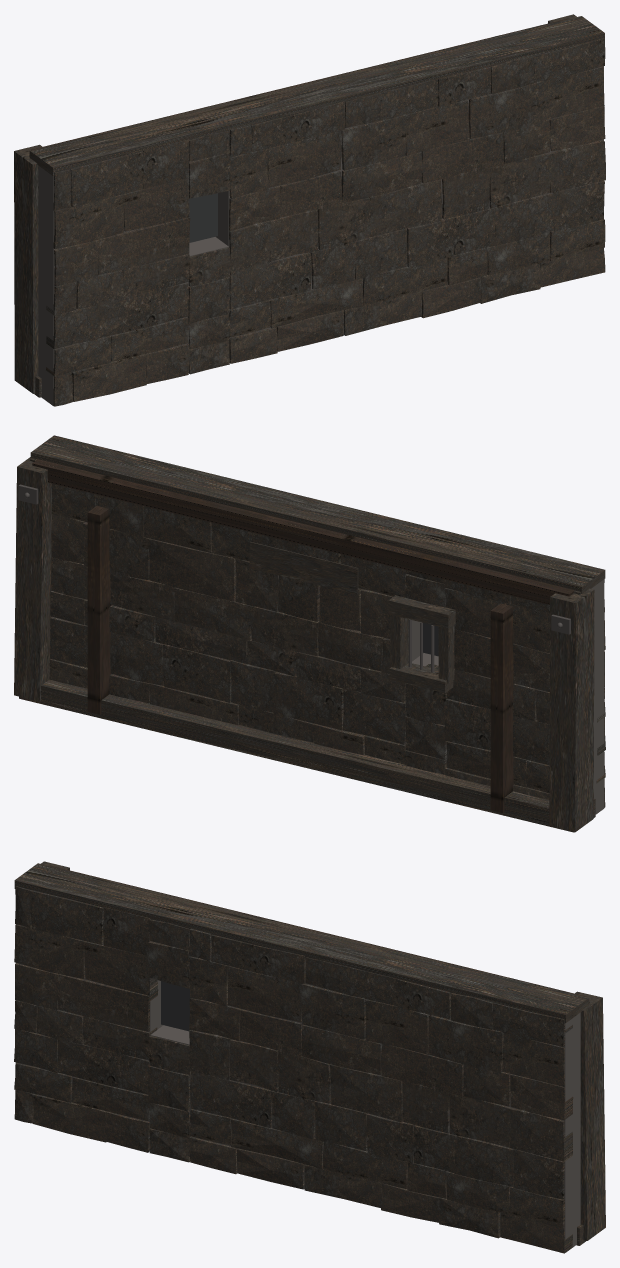
File: wall_rear_preview.glb
The picture shows the model from 3 angles, top to bottom: view 1: azimuth 30°, elevation 25°; view 2: azimuth 150°, elevation 25°; view 3: azimuth 330°, elevation 25°; orthographic projection.
Parts seen in each view (by area): view 1: ASSET_REAR_REAR_roof_bedding_stone, ASSET_REAR_REAR_load_corner_1, ASSET_REAR_REAR_solid_2_structural, ASSET_REAR_REAR_solid_2_InteriorPBR_4_0, ASSET_REAR_REAR_solid_2_InteriorPBR_2_0, ASSET_REAR_REAR_solid_0_InteriorPBR_5_1, ASSET_REAR_REAR_solid_0_InteriorPBR_2_6, ASSET_REAR_REAR_solid_0_InteriorPBR_5_4, ASSET_REAR_REAR_solid_0_InteriorPBR_3_3, ASSET_REAR_REAR_solid_2_InteriorPBR_6_1, ASSET_REAR_REAR_solid_2_InteriorPBR_5_1, ASSET_REAR_REAR_solid_0_InteriorPBR_4_2 (+61 smaller); view 2: ASSET_REAR_REAR_roof_bedding_stone, ASSET_REAR_REAR_continuous_plinth, ASSET_REAR_REAR_wall_plate, ASSET_REAR_REAR_load_corner_1, ASSET_REAR_REAR_load_corner_-1, ASSET_REAR_REAR_oak_utility_pier_1, ASSET_REAR_REAR_oak_utility_pier_-1, ASSET_REAR_REAR_solid_0_stone_4_2, ASSET_REAR_REAR_dark_smoke_stone, ASSET_REAR_REAR_solid_0_stone_1_4, ASSET_REAR_REAR_solid_0_stone_1_2, ASSET_REAR_REAR_solid_0_stone_3_2 (+51 smaller); view 3: ASSET_REAR_REAR_roof_bedding_stone, ASSET_REAR_REAR_load_corner_-1, ASSET_REAR_REAR_solid_0_structural, ASSET_REAR_REAR_solid_2_InteriorPBR_4_0, ASSET_REAR_REAR_solid_2_InteriorPBR_2_0, ASSET_REAR_REAR_solid_0_InteriorPBR_2_6, ASSET_REAR_REAR_solid_0_InteriorPBR_5_1, ASSET_REAR_REAR_solid_0_InteriorPBR_5_4, ASSET_REAR_REAR_solid_0_InteriorPBR_3_3, ASSET_REAR_REAR_solid_2_InteriorPBR_6_1, ASSET_REAR_REAR_solid_2_InteriorPBR_5_1, ASSET_REAR_REAR_solid_0_InteriorPBR_4_2 (+61 smaller).
Part boxes in pixels (<box>): ASSET_REAR_REAR_roof_bedding_stone: <box>29,16,604,175</box>; ASSET_REAR_REAR_load_corner_1: <box>14,144,42,393</box>; ASSET_REAR_REAR_solid_2_structural: <box>38,165,188,406</box>; ASSET_REAR_REAR_solid_2_InteriorPBR_4_0: <box>98,217,190,274</box>; ASSET_REAR_REAR_solid_2_InteriorPBR_2_0: <box>97,283,188,338</box>; ASSET_REAR_REAR_solid_0_InteriorPBR_5_1: <box>468,80,544,138</box>; ASSET_REAR_REAR_solid_0_InteriorPBR_2_6: <box>229,252,311,309</box>; ASSET_REAR_REAR_solid_0_InteriorPBR_5_4: <box>267,130,342,187</box>; ASSET_REAR_REAR_solid_0_InteriorPBR_3_3: <box>369,179,441,236</box>; ASSET_REAR_REAR_solid_2_InteriorPBR_6_1: <box>70,151,143,207</box>; ASSET_REAR_REAR_solid_2_InteriorPBR_5_1: <box>53,194,125,249</box>; ASSET_REAR_REAR_solid_0_InteriorPBR_4_2: <box>421,132,504,183</box>; ASSET_REAR_REAR_roof_bedding_stone: <box>30,435,605,593</box>; ASSET_REAR_REAR_continuous_plinth: <box>19,679,595,832</box>; ASSET_REAR_REAR_wall_plate: <box>32,459,574,604</box>; ASSET_REAR_REAR_load_corner_1: <box>549,588,594,832</box>; ASSET_REAR_REAR_load_corner_-1: <box>14,457,52,701</box>; ASSET_REAR_REAR_oak_utility_pier_1: <box>490,603,514,812</box>; ASSET_REAR_REAR_oak_utility_pier_-1: <box>87,505,111,714</box>; ASSET_REAR_REAR_solid_0_stone_4_2: <box>148,538,236,601</box>; ASSET_REAR_REAR_dark_smoke_stone: <box>249,541,358,594</box>; ASSET_REAR_REAR_solid_0_stone_1_4: <box>273,671,343,730</box>; ASSET_REAR_REAR_solid_0_stone_1_2: <box>162,644,231,702</box>; ASSET_REAR_REAR_solid_0_stone_3_2: <box>174,587,251,640</box>; ASSET_REAR_REAR_roof_bedding_stone: <box>14,863,589,1023</box>; ASSET_REAR_REAR_load_corner_-1: <box>575,991,605,1240</box>; ASSET_REAR_REAR_solid_0_structural: <box>190,960,580,1252</box>; ASSET_REAR_REAR_solid_2_InteriorPBR_4_0: <box>57,974,158,1031</box>; ASSET_REAR_REAR_solid_2_InteriorPBR_2_0: <box>57,1040,149,1094</box>; ASSET_REAR_REAR_solid_0_InteriorPBR_2_6: <box>190,1071,272,1128</box>; ASSET_REAR_REAR_solid_0_InteriorPBR_5_1: <box>428,1015,503,1072</box>; ASSET_REAR_REAR_solid_0_InteriorPBR_5_4: <box>227,966,302,1022</box>; ASSET_REAR_REAR_solid_0_InteriorPBR_3_3: <box>330,1064,402,1122</box>; ASSET_REAR_REAR_solid_2_InteriorPBR_6_1: <box>30,890,103,944</box>; ASSET_REAR_REAR_solid_2_InteriorPBR_5_1: <box>14,924,84,979</box>; ASSET_REAR_REAR_solid_0_InteriorPBR_4_2: <box>381,1044,463,1095</box>.
Bounding box in the file's own units: 8.05 × 3.28 × 0.9872.
7 materials, 4 textured.
